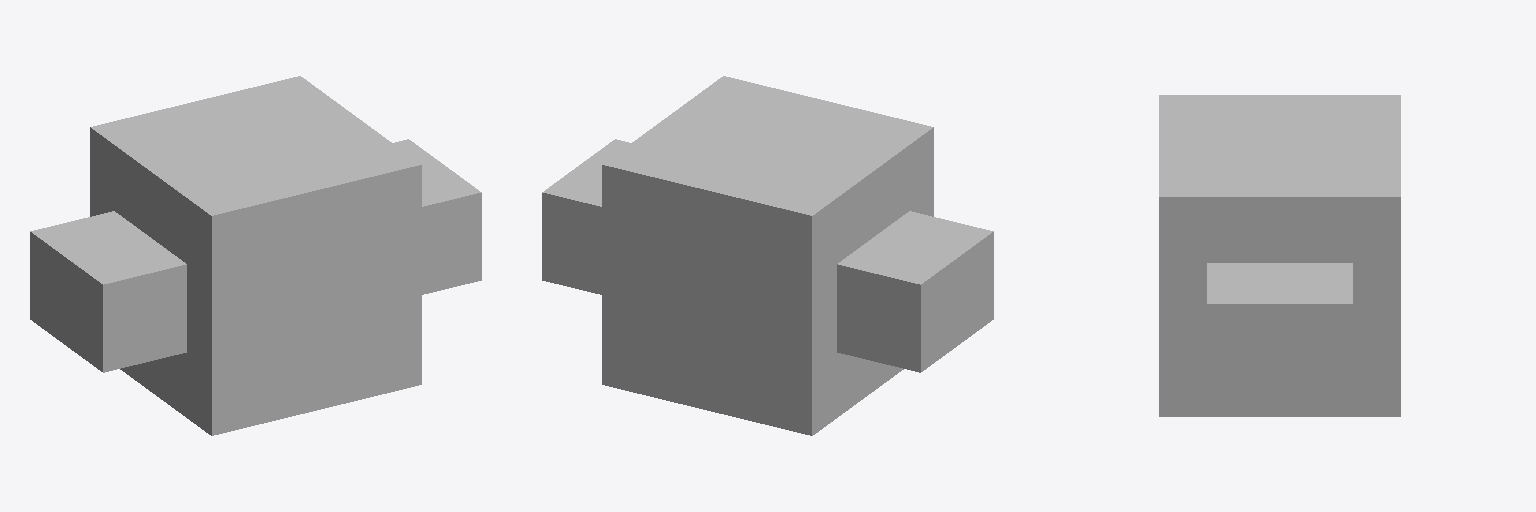
Rendered from fly-a.obj.
3 renders of one model, left to right at view 1: azimuth 30°, elevation 25°; view 2: azimuth 150°, elevation 25°; view 3: azimuth 270°, elevation 25°, orthographic.
Visible parts, largest first — view 1: Mesh3 Group3 Model, Mesh2 Group2 Model, Mesh1 Group1 Model; view 2: Mesh3 Group3 Model, Mesh2 Group2 Model, Mesh1 Group1 Model; view 3: Mesh3 Group3 Model, Mesh1 Group1 Model.
Part boxes in pixels (left/top/right/bottom): Mesh3 Group3 Model: left=90, top=76, right=421, bottom=435; Mesh2 Group2 Model: left=30, top=211, right=186, bottom=372; Mesh1 Group1 Model: left=393, top=139, right=481, bottom=294; Mesh3 Group3 Model: left=602, top=76, right=933, bottom=435; Mesh2 Group2 Model: left=837, top=211, right=993, bottom=372; Mesh1 Group1 Model: left=542, top=139, right=630, bottom=294; Mesh3 Group3 Model: left=1159, top=95, right=1400, bottom=416; Mesh1 Group1 Model: left=1207, top=263, right=1352, bottom=391.
Size of the model in its own units: 0.9 by 0.5 by 0.5.